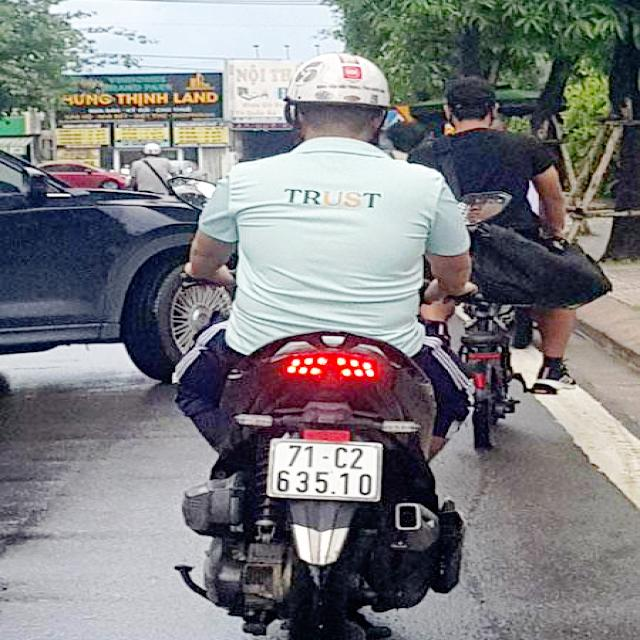license_plate: (271, 441, 384, 502)
